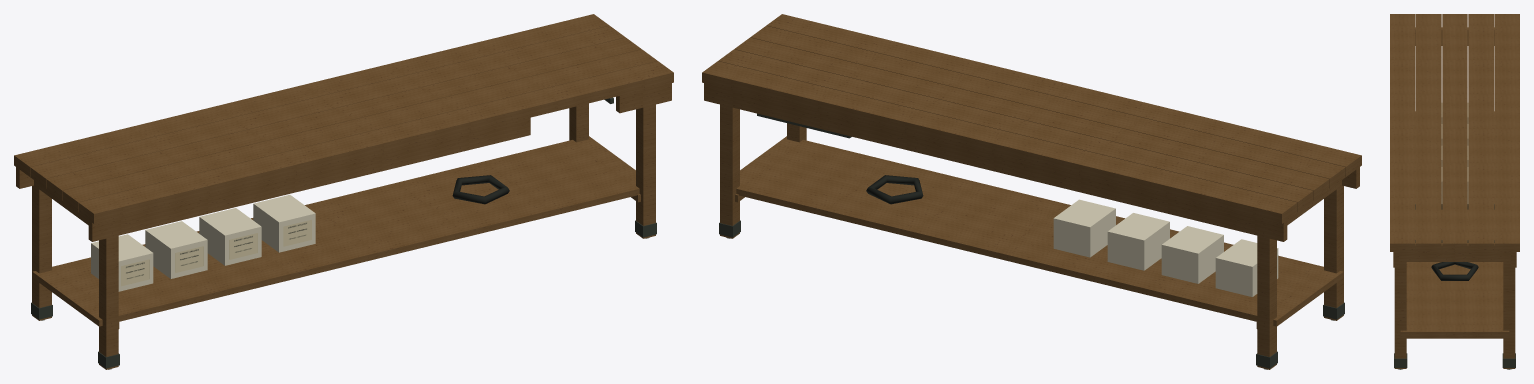
File: SM_FieldKit_TimingBench_LOD2.fbx
3 renders of one model, left to right at view 1: azimuth 30°, elevation 25°; view 2: azimuth 150°, elevation 25°; view 3: azimuth 270°, elevation 25°, orthographic. The views are drawn at different scales.
Visible parts, largest first — view 1: SM_FieldKit_TimingBench_LOD2; view 2: SM_FieldKit_TimingBench_LOD2; view 3: SM_FieldKit_TimingBench_LOD2.
Boxes of the visible parts, x1,y1,x2,y2 form: SM_FieldKit_TimingBench_LOD2: (14, 14, 673, 369); SM_FieldKit_TimingBench_LOD2: (702, 14, 1361, 369); SM_FieldKit_TimingBench_LOD2: (1390, 14, 1519, 369).
Size of the model in its own units: 3 by 0.717 by 0.812.
